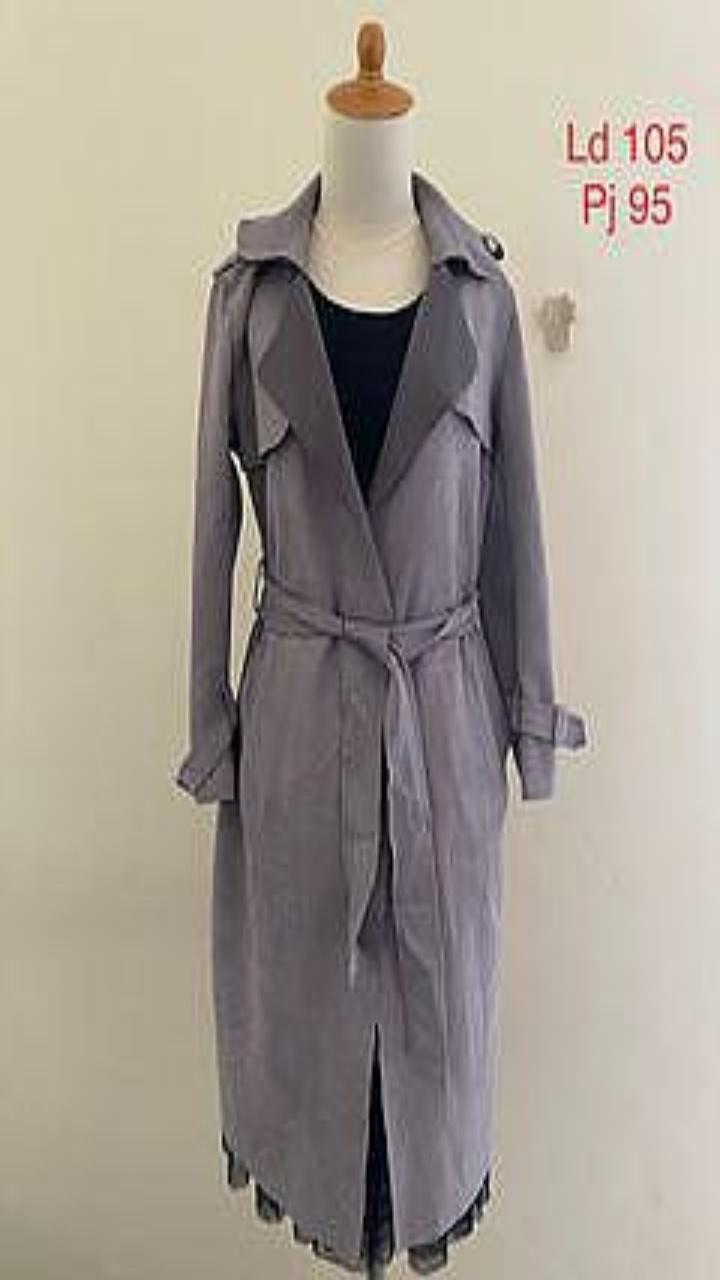Coat: (175, 171, 584, 1264)
Dresses: (309, 281, 421, 498)
